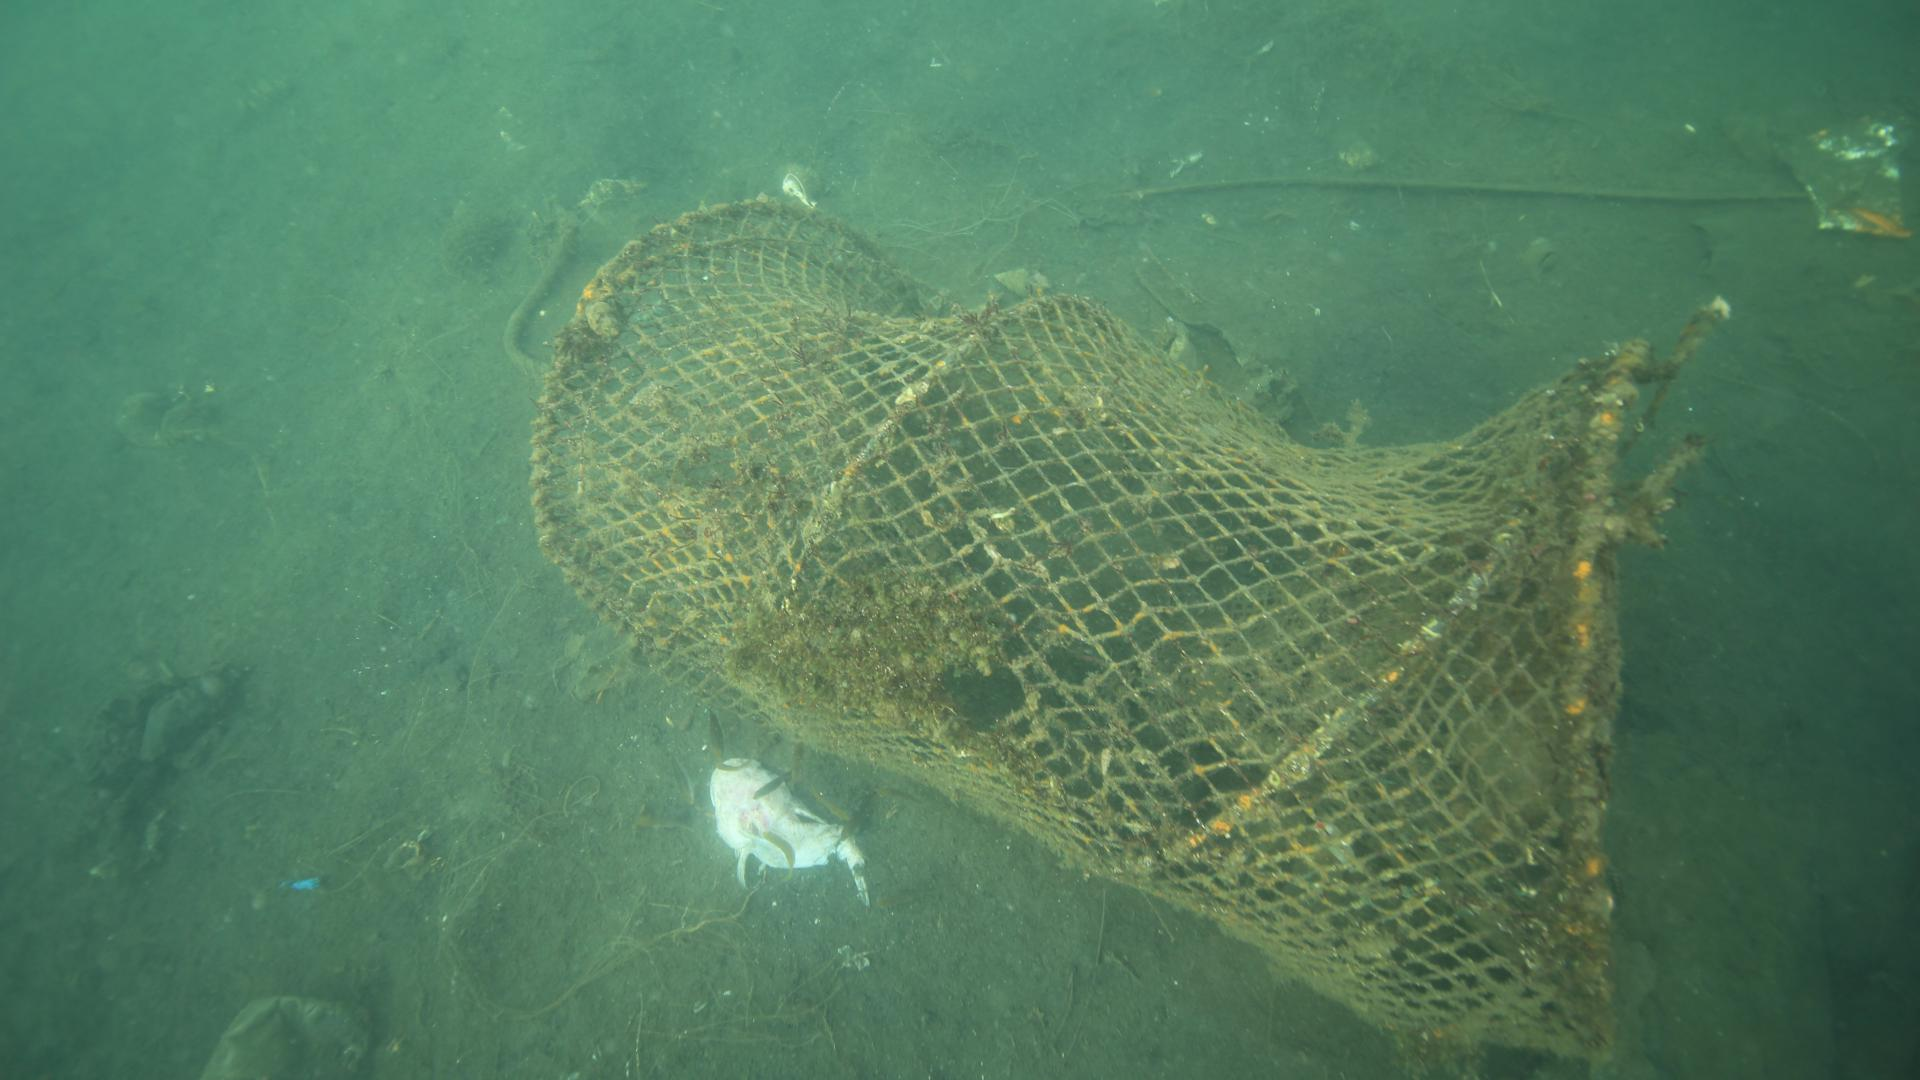spring fish trap: (529, 190, 1663, 1058)
